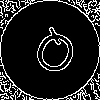Q: (25, 25, 82, 86)
